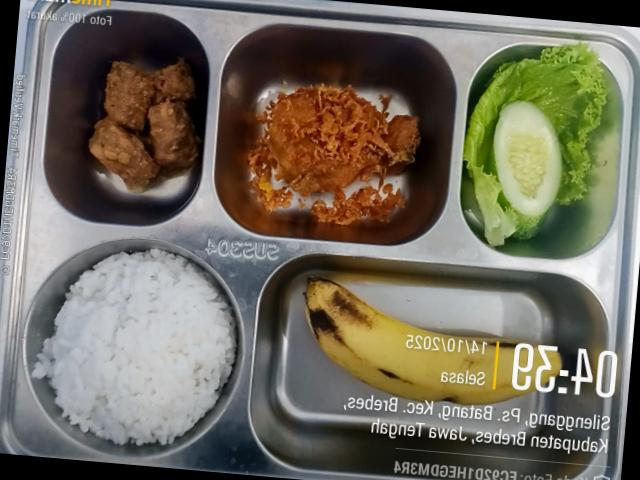ayam: (262, 84, 420, 192)
buah: (304, 276, 562, 404)
nasi: (32, 248, 236, 445)
sayur: (464, 46, 605, 244)
tempe: (89, 58, 201, 191)
